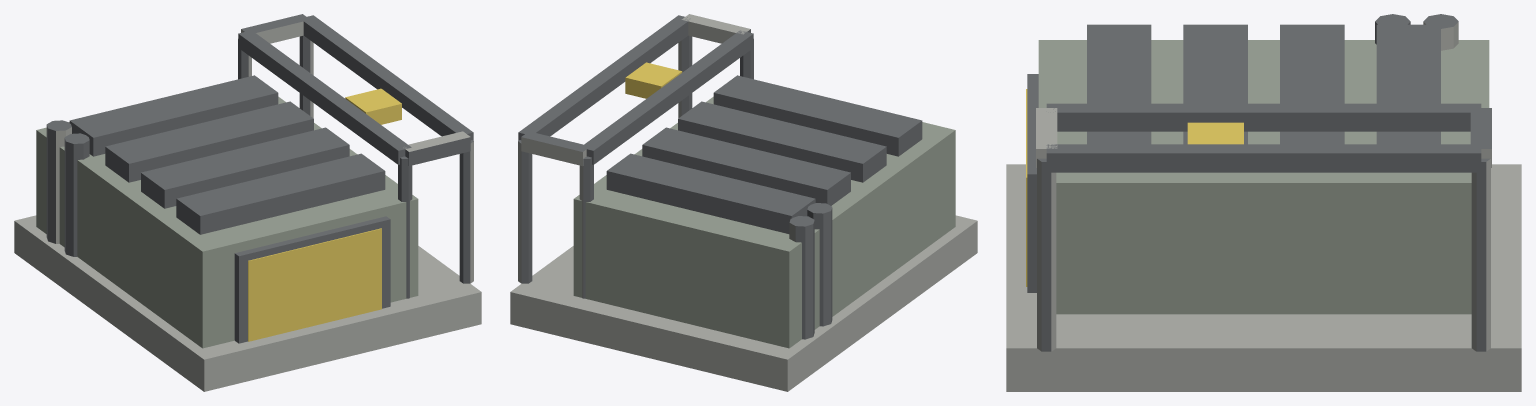
File: light_manufactory.glb
The picture shows the model from 3 angles, left to right: view 1: azimuth 30°, elevation 25°; view 2: azimuth 150°, elevation 25°; view 3: azimuth 270°, elevation 25°; orthographic projection. The views are drawn at different scales.
Visible parts, largest first — view 1: light_manufactory; view 2: light_manufactory; view 3: light_manufactory.
Boxes of the visible parts, left/top/right/bottom form: light_manufactory: left=14, top=14, right=481, bottom=391; light_manufactory: left=510, top=14, right=977, bottom=391; light_manufactory: left=1006, top=14, right=1521, bottom=391.
Size of the model in its own units: 5.53 by 3.33 by 6.4.
